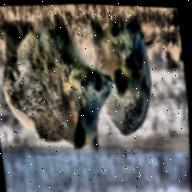boar: (0, 3, 122, 164), (90, 7, 175, 136)
